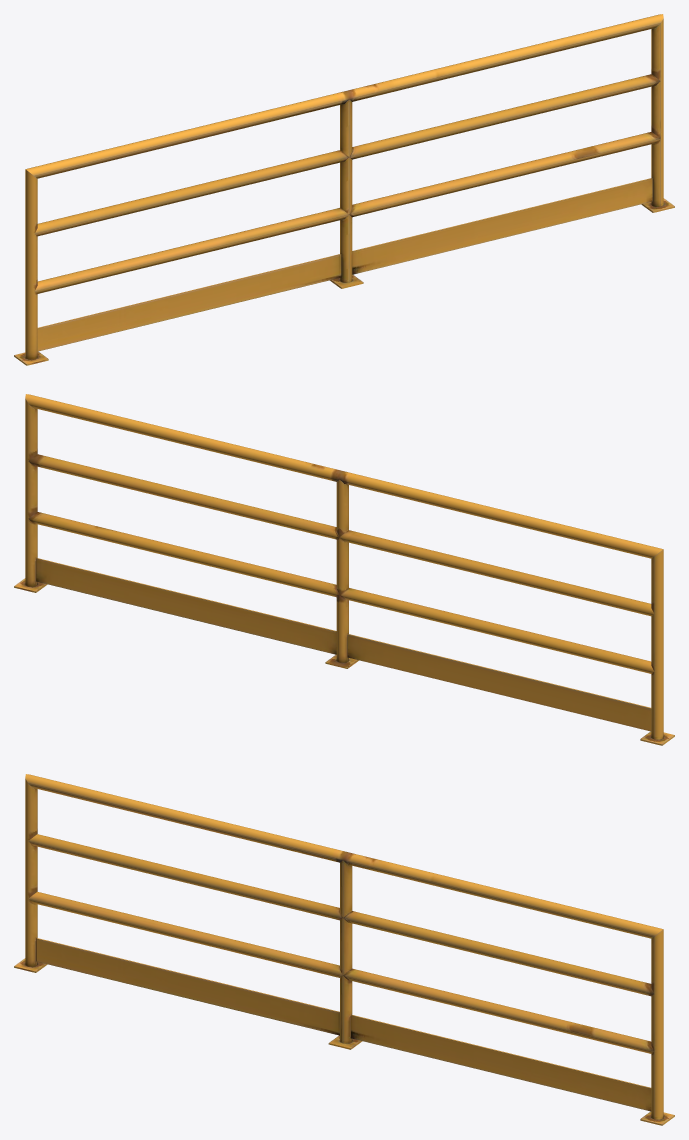
3 views of the same model, one above another, from view 1: azimuth 30°, elevation 25°; view 2: azimuth 150°, elevation 25°; view 3: azimuth 330°, elevation 25° (orthographic).
Parts seen in each view (by area): view 1: body0_model0_lod0_mesh0; view 2: body0_model0_lod0_mesh0; view 3: body0_model0_lod0_mesh0.
Part boxes in pixels (left/top/right/bottom): body0_model0_lod0_mesh0: left=14, top=14, right=674, bottom=365; body0_model0_lod0_mesh0: left=14, top=394, right=674, bottom=745; body0_model0_lod0_mesh0: left=14, top=774, right=674, bottom=1125.
Bounding box in the file's own units: 118 × 33 × 4.01.
1 material, 1 textured.
